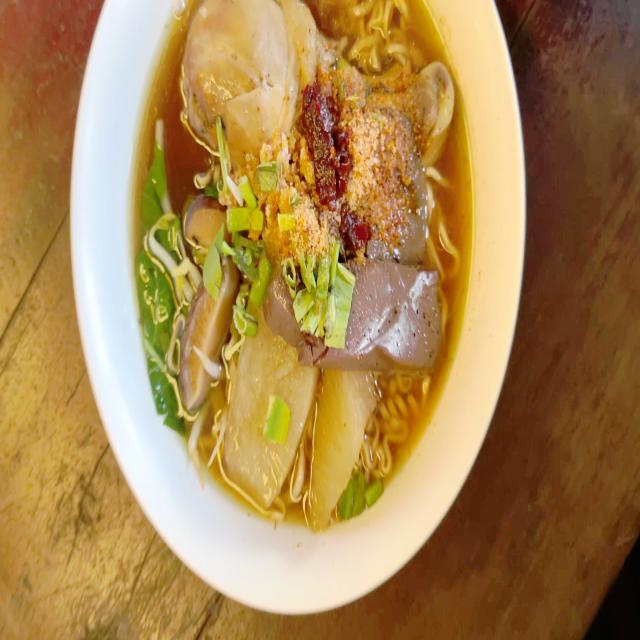boiled_chicken_blood_jelly: (348, 263, 447, 376)
chicken_drumstick: (179, 1, 458, 181)
daikon_radish: (235, 336, 367, 514)
noodle: (130, 0, 475, 541)
